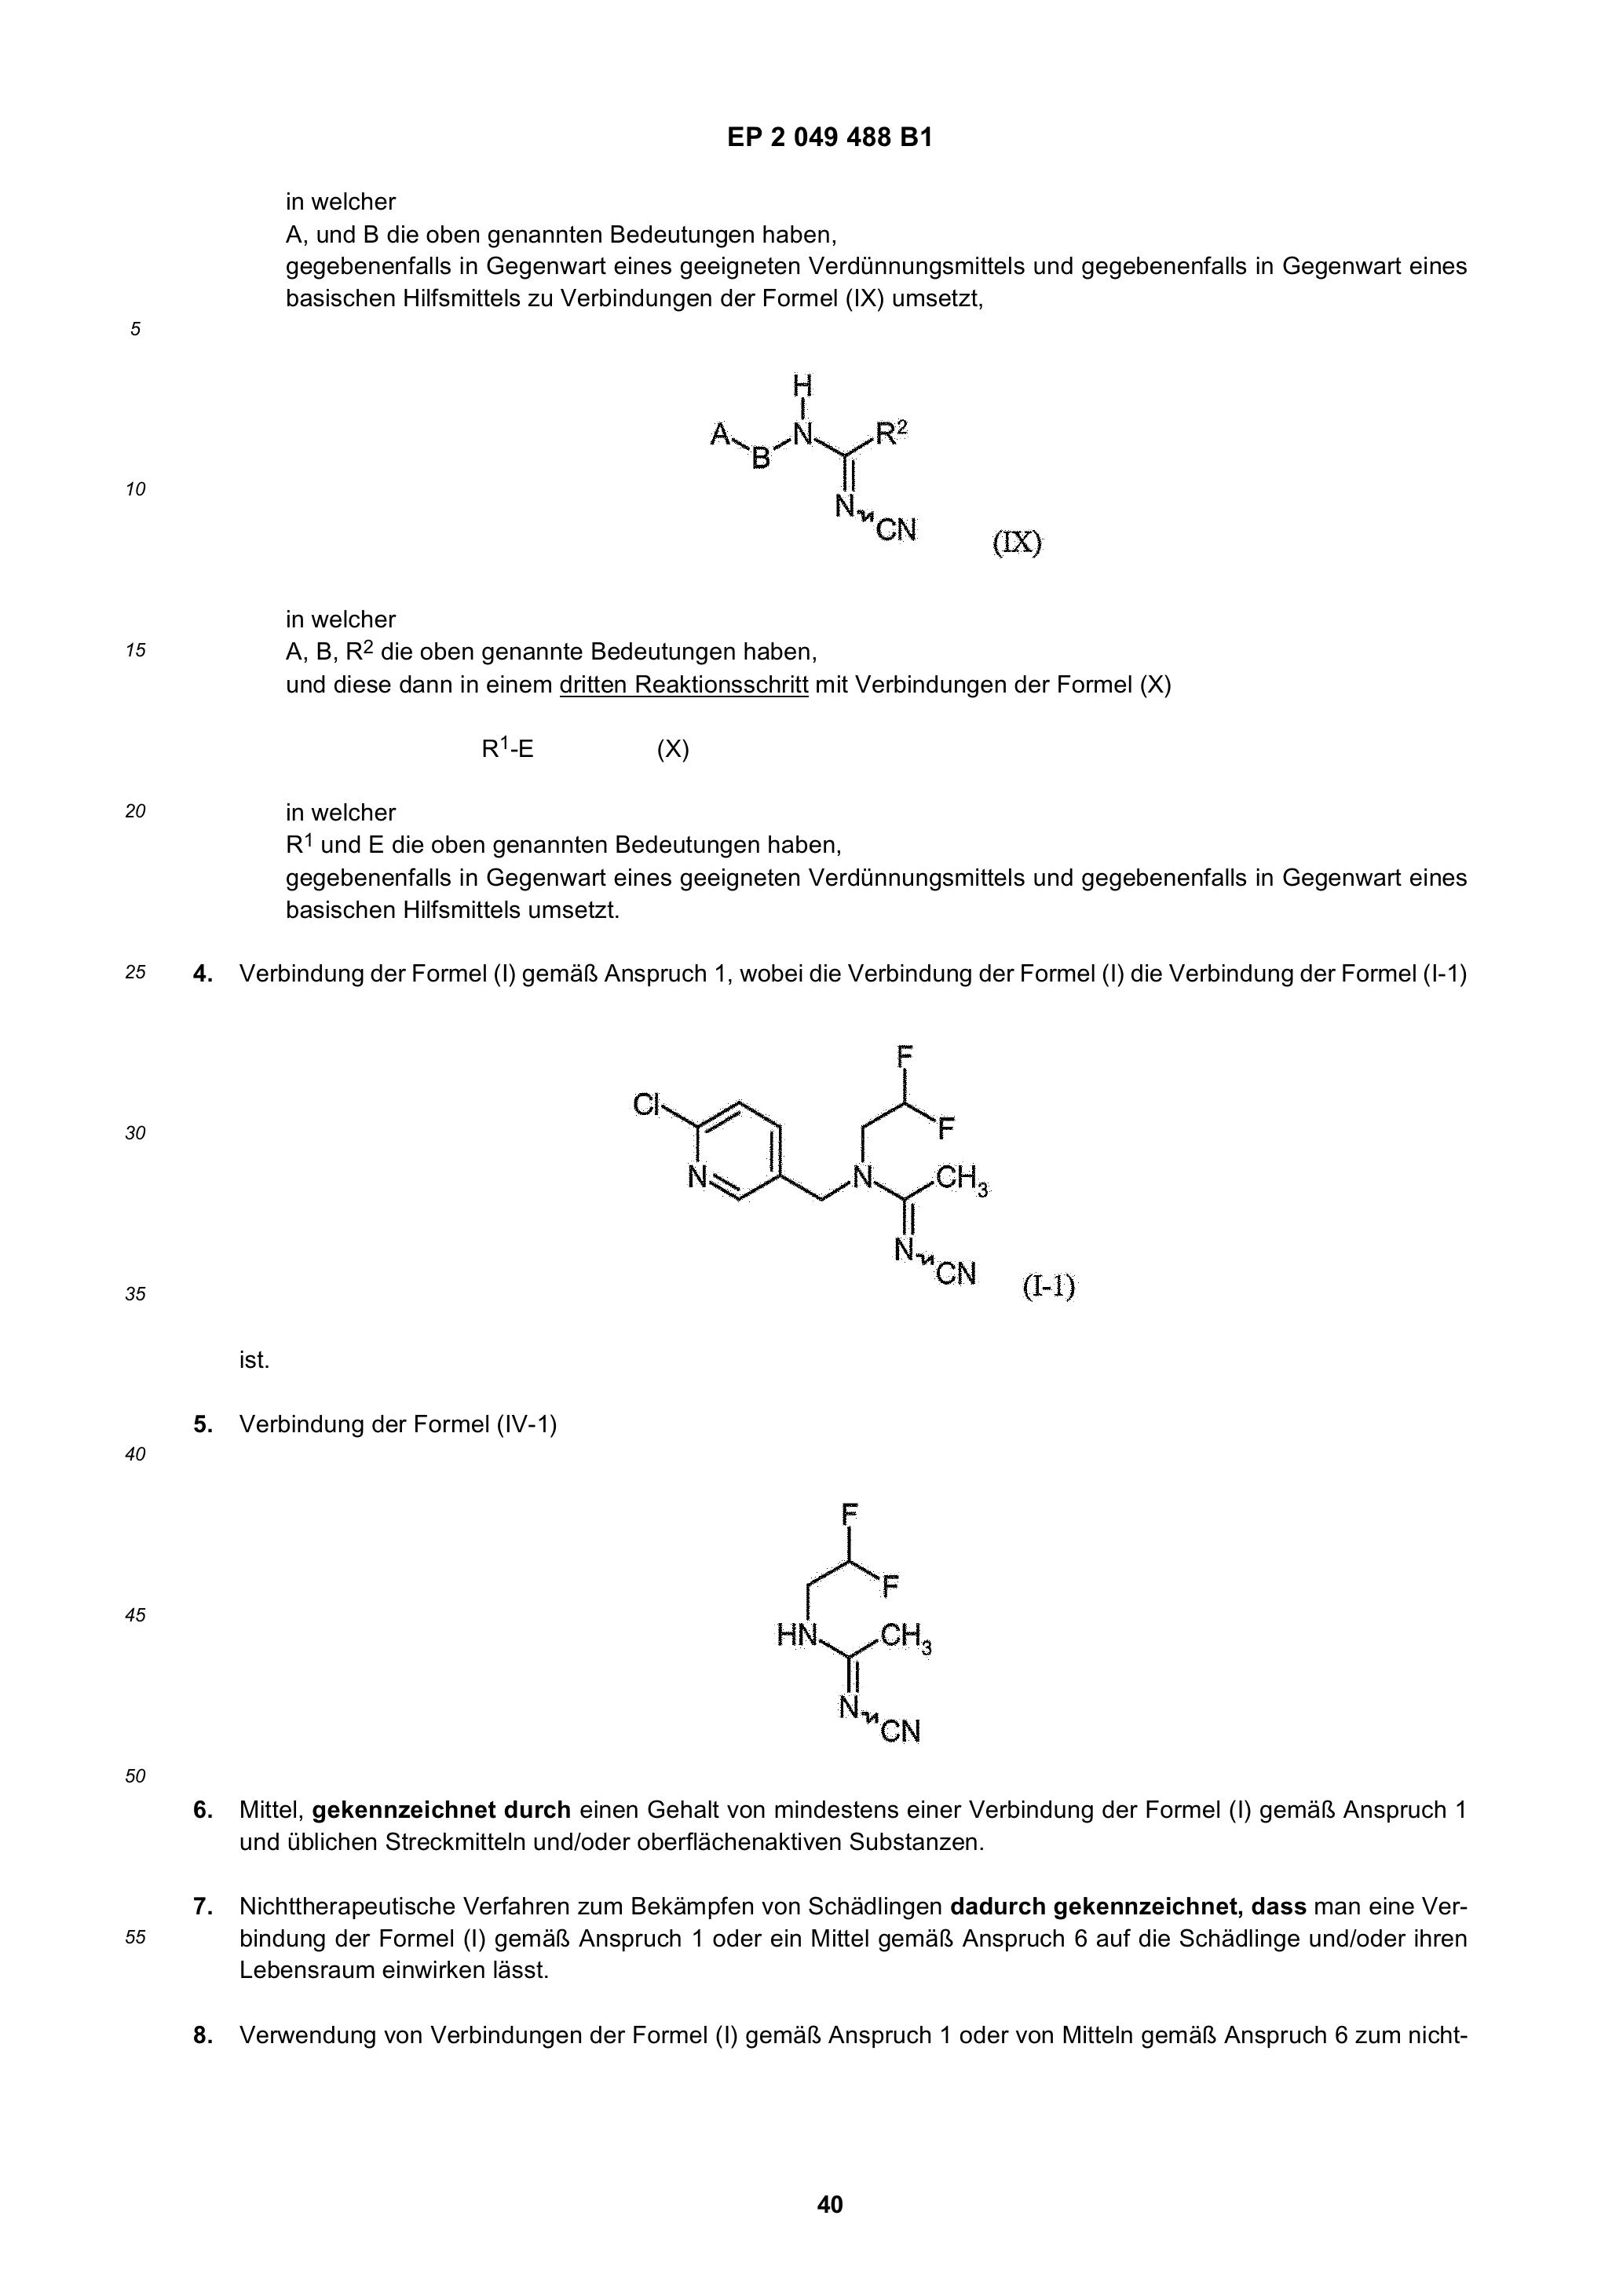intermediates: (724, 1463, 1084, 1776)
markush-structures: (697, 346, 957, 571)
relevant-structures: (594, 1036, 1166, 1411)
